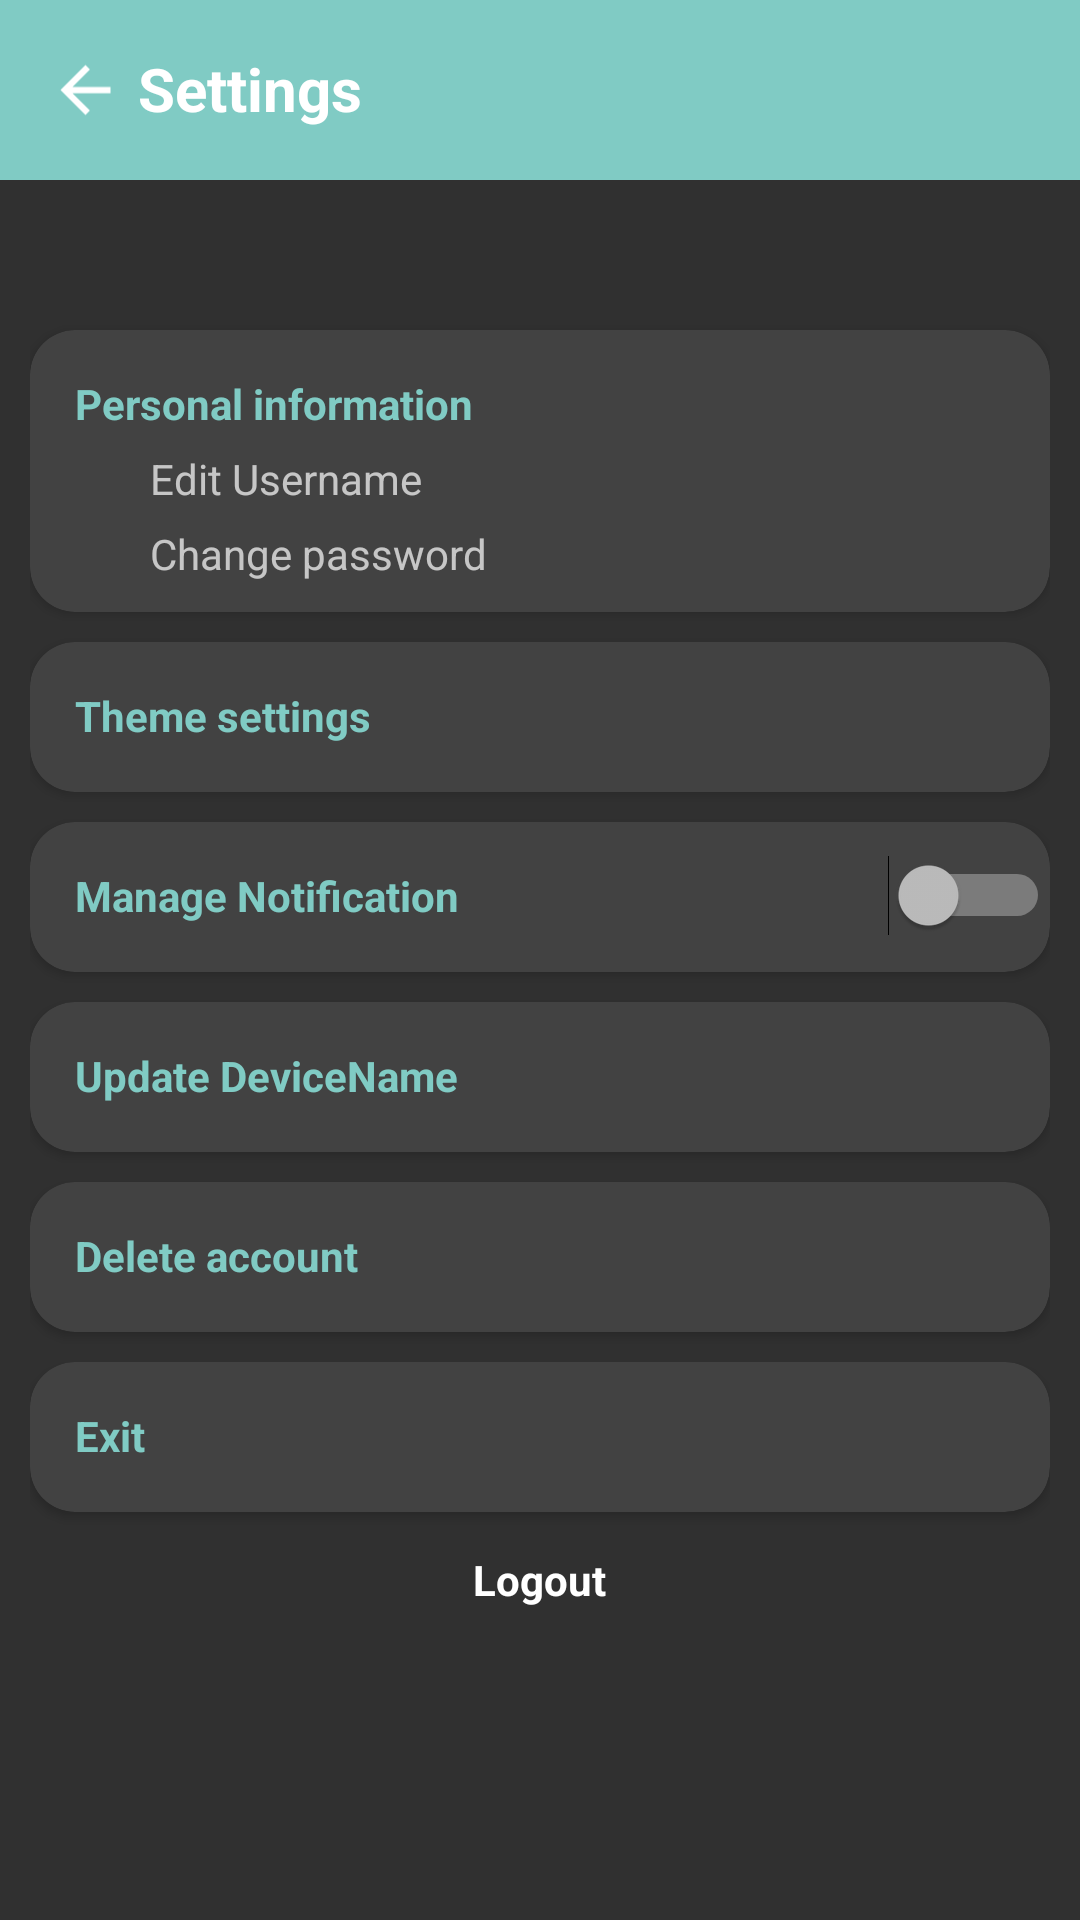

Named icons in this screenshot (1080px×1920px) and their bounding boxes, box(x1, y1, x2, y2):
arrow back: box(61, 65, 111, 115)
